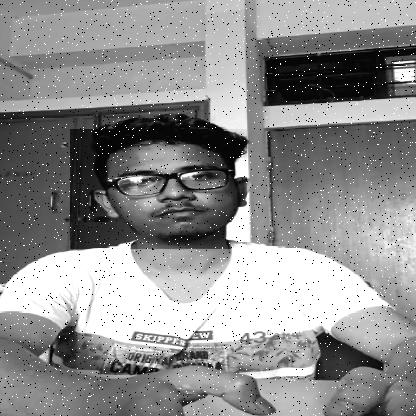Normal: (70, 129, 247, 249)
